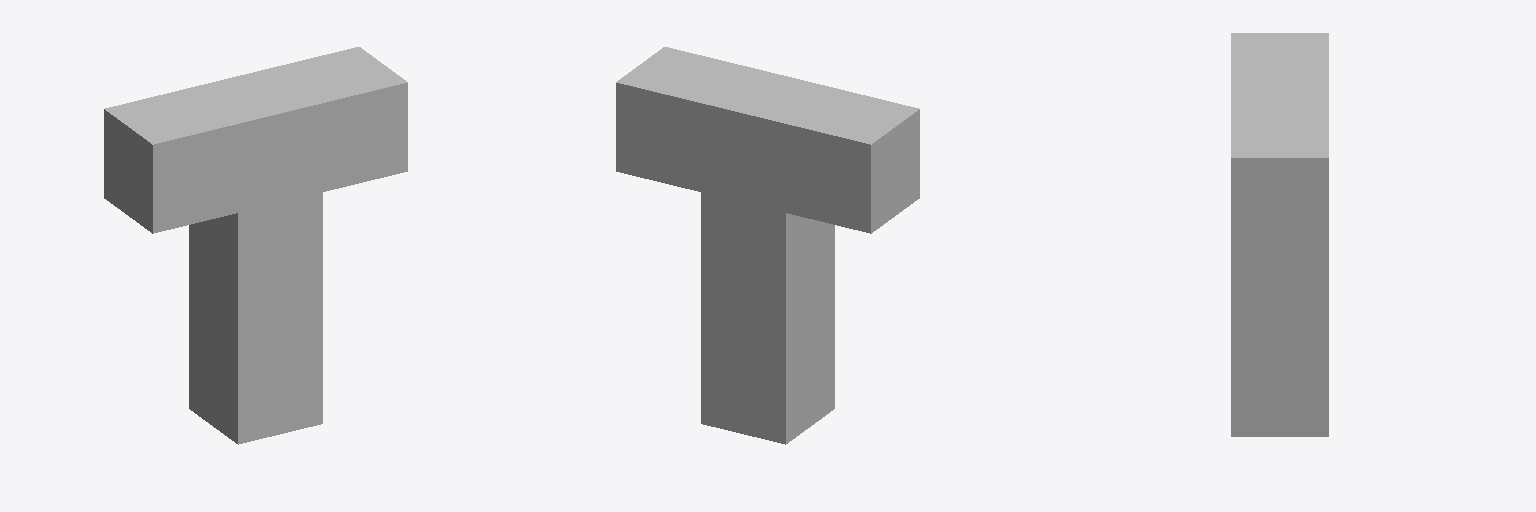
File: receptor-tee.obj
3 renders of one model, left to right at view 1: azimuth 30°, elevation 25°; view 2: azimuth 150°, elevation 25°; view 3: azimuth 270°, elevation 25°, orthographic.
Parts seen in each view (by area): view 1: tee_Cube.002; view 2: tee_Cube.002; view 3: tee_Cube.002.
Boxes of the visible parts, <box> form: tee_Cube.002: <box>104,47,407,444</box>; tee_Cube.002: <box>616,47,919,444</box>; tee_Cube.002: <box>1231,33,1328,436</box>.
Size of the model in its own units: 5.99 by 7.19 by 1.99.